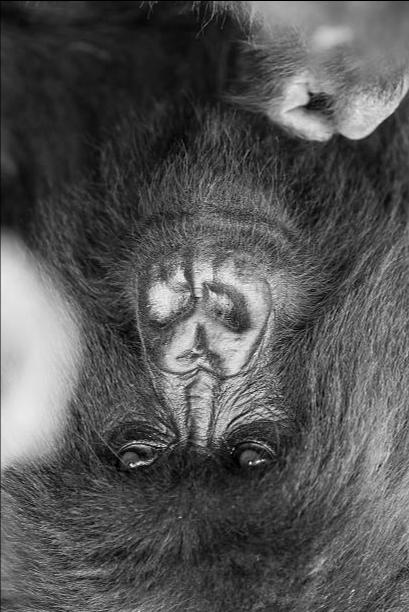goriile_montagne: (9, 0, 400, 612)
